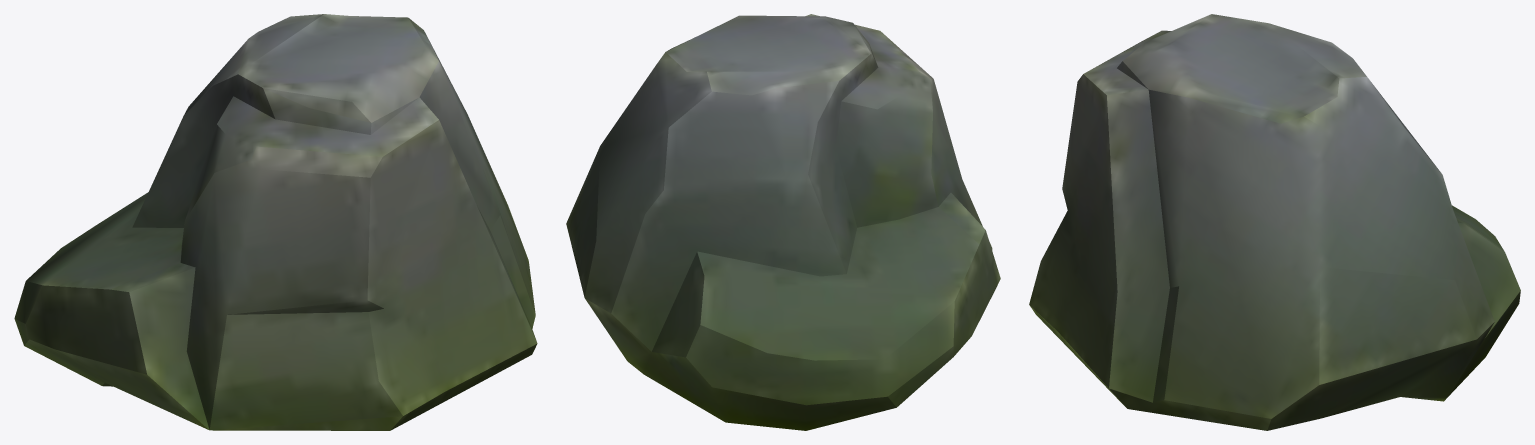
Rendered from n_rock_medium_1.glb.
3 views of the same model, side by side, from view 1: azimuth 30°, elevation 25°; view 2: azimuth 150°, elevation 25°; view 3: azimuth 270°, elevation 25° (orthographic). The views are drawn at different scales.
Visible parts, largest first — view 1: Rock_Medium_1; view 2: Rock_Medium_1; view 3: Rock_Medium_1.
Boxes of the visible parts, bbox=[...] form: Rock_Medium_1: bbox=[14, 14, 537, 430]; Rock_Medium_1: bbox=[566, 14, 1000, 430]; Rock_Medium_1: bbox=[1029, 14, 1520, 430].
Bounding box in the file's own units: 3.23 × 2.26 × 2.99.
1 material, 1 textured.
